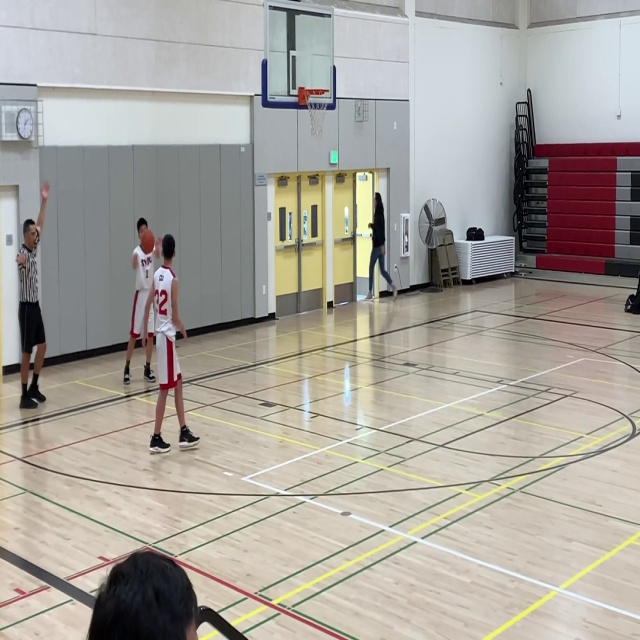Basketball: (139, 229, 155, 253)
